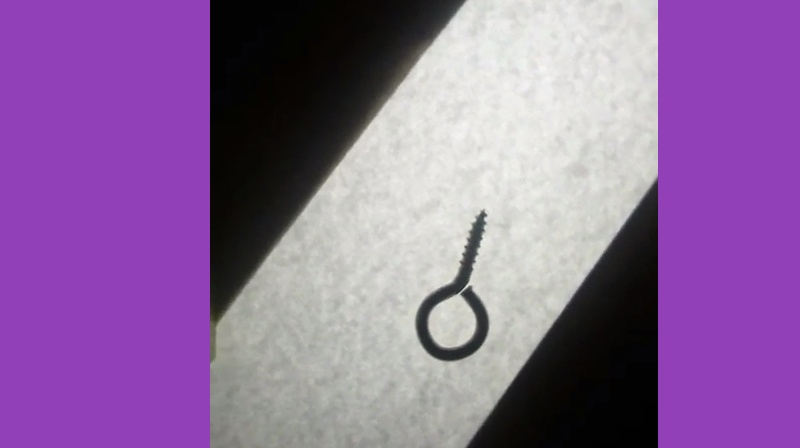O001: (411, 206, 491, 364)
